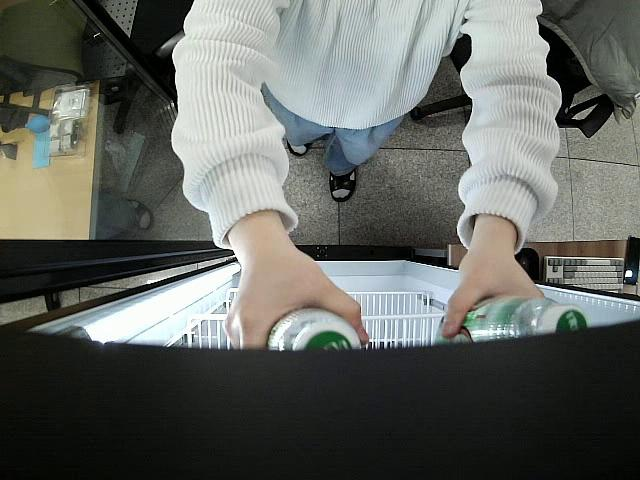00_hand: (223, 245, 371, 352), (442, 247, 554, 339)
18_trevi: (433, 293, 588, 346), (265, 304, 366, 354)
